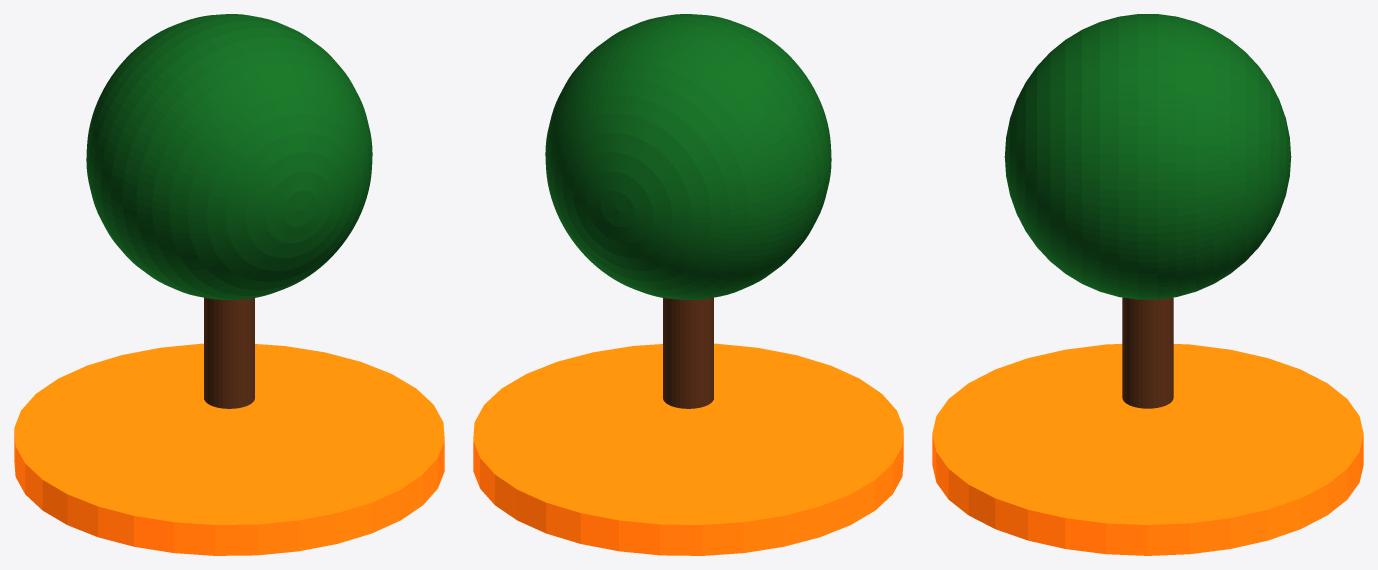
The model's file is spanish_orange_tree.dae.
The picture shows the model from 3 angles, left to right: view 1: azimuth 30°, elevation 25°; view 2: azimuth 150°, elevation 25°; view 3: azimuth 270°, elevation 25°; orthographic projection.
Parts seen in each view (by area): view 1: 11_19_Popular_Spanish_Orange_Tree_ROOT_base, 11_19_Popular_Spanish_Orange_Tree_part_02, 11_19_Popular_Spanish_Orange_Tree_part_01; view 2: 11_19_Popular_Spanish_Orange_Tree_ROOT_base, 11_19_Popular_Spanish_Orange_Tree_part_02, 11_19_Popular_Spanish_Orange_Tree_part_01; view 3: 11_19_Popular_Spanish_Orange_Tree_ROOT_base, 11_19_Popular_Spanish_Orange_Tree_part_02, 11_19_Popular_Spanish_Orange_Tree_part_01.
Boxes of the visible parts, left/top/right/bottom form: 11_19_Popular_Spanish_Orange_Tree_ROOT_base: left=14, top=343, right=444, bottom=555; 11_19_Popular_Spanish_Orange_Tree_part_02: left=86, top=14, right=372, bottom=299; 11_19_Popular_Spanish_Orange_Tree_part_01: left=204, top=297, right=254, bottom=408; 11_19_Popular_Spanish_Orange_Tree_ROOT_base: left=473, top=343, right=903, bottom=555; 11_19_Popular_Spanish_Orange_Tree_part_02: left=545, top=14, right=831, bottom=299; 11_19_Popular_Spanish_Orange_Tree_part_01: left=663, top=297, right=713, bottom=408; 11_19_Popular_Spanish_Orange_Tree_ROOT_base: left=932, top=344, right=1363, bottom=555; 11_19_Popular_Spanish_Orange_Tree_part_02: left=1004, top=14, right=1291, bottom=299; 11_19_Popular_Spanish_Orange_Tree_part_01: left=1122, top=297, right=1173, bottom=408.
Size of the model in its own units: 0.76 by 0.85 by 0.76.
